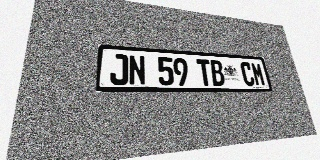5: (157, 56, 175, 86)
9: (173, 57, 190, 86)
B: (209, 60, 226, 86)
C: (239, 62, 255, 86)
J: (110, 54, 128, 85)
M: (250, 62, 266, 86)
N: (128, 55, 146, 85)
T: (196, 59, 213, 86)
